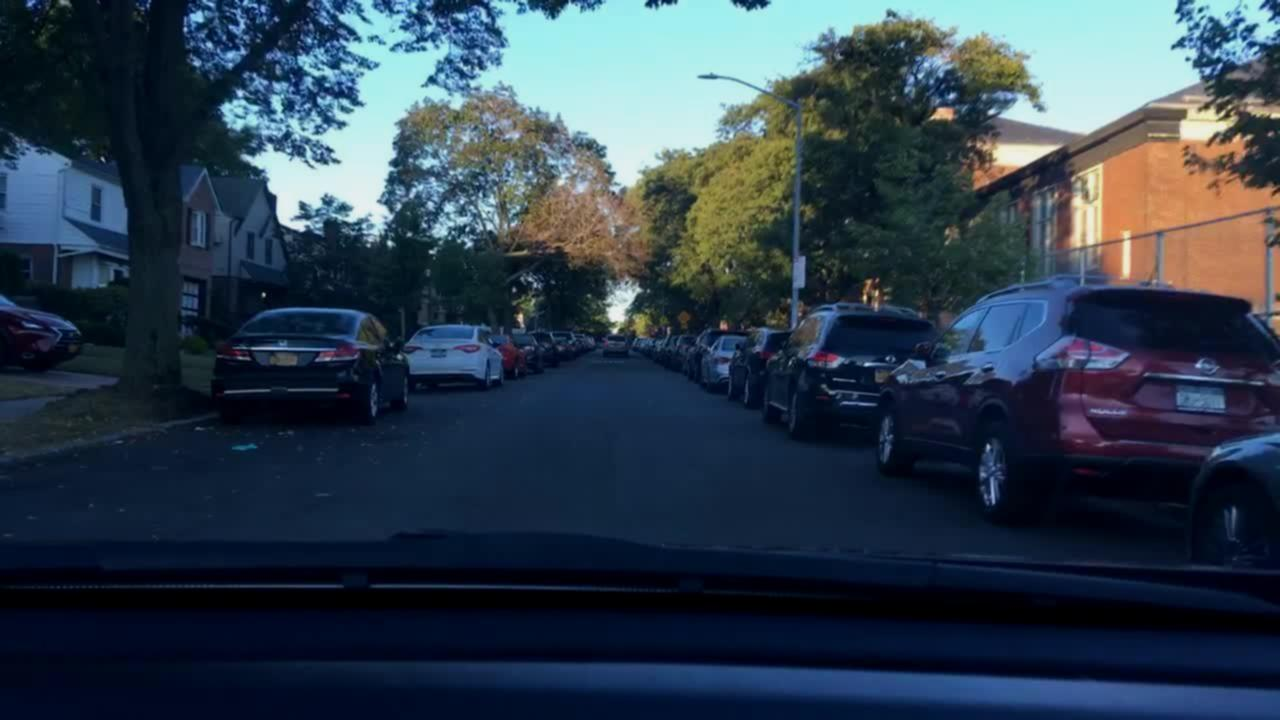Honda: (275, 334, 291, 351)
